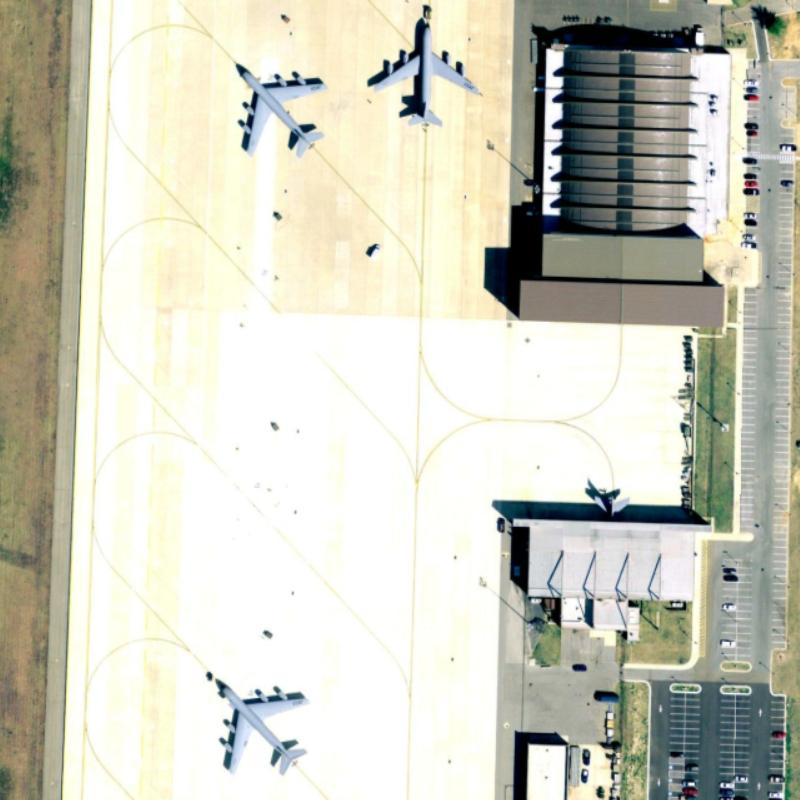A14: (358, 13, 484, 133), (207, 674, 314, 785), (231, 57, 331, 160)
